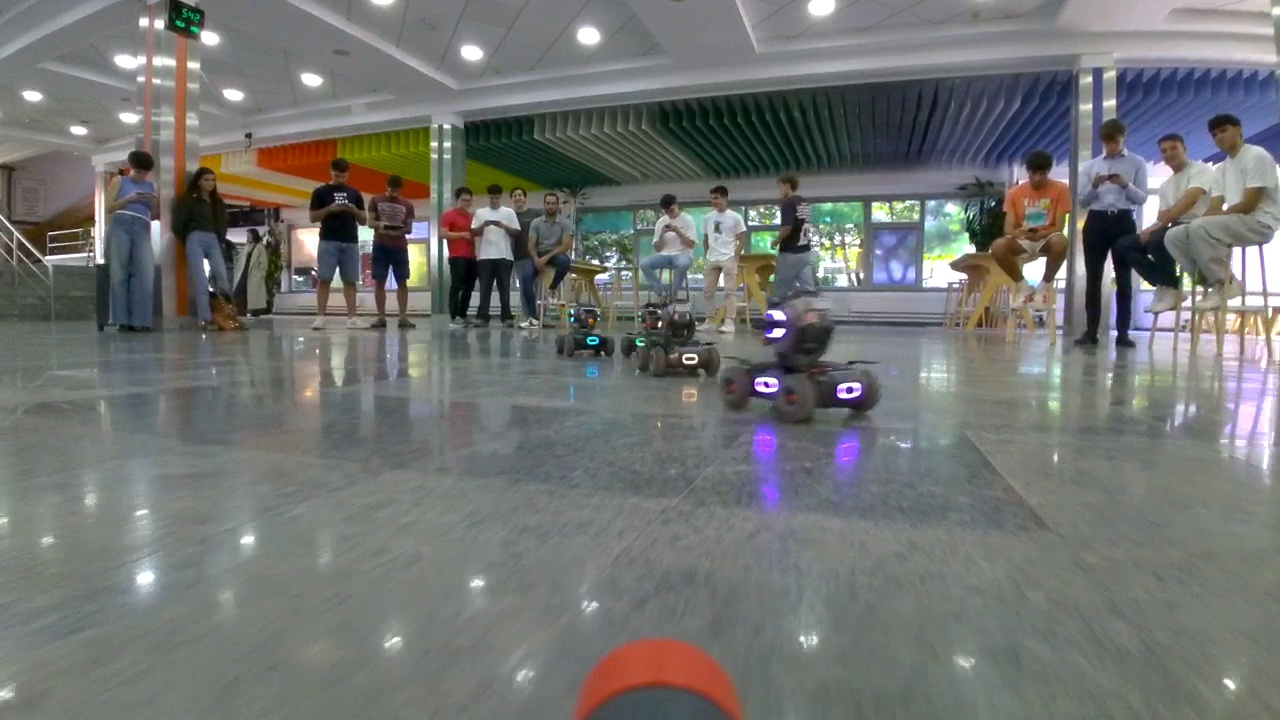robot: (718, 299, 882, 424), (636, 308, 721, 373), (555, 304, 616, 357), (623, 305, 660, 352)
